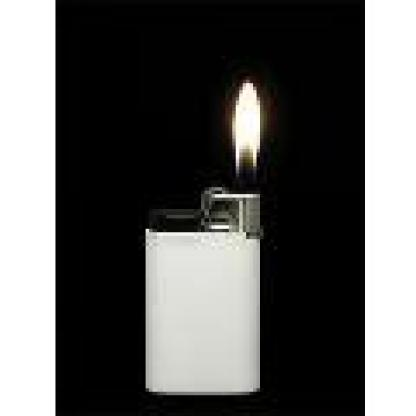Fire: (229, 78, 263, 172)
